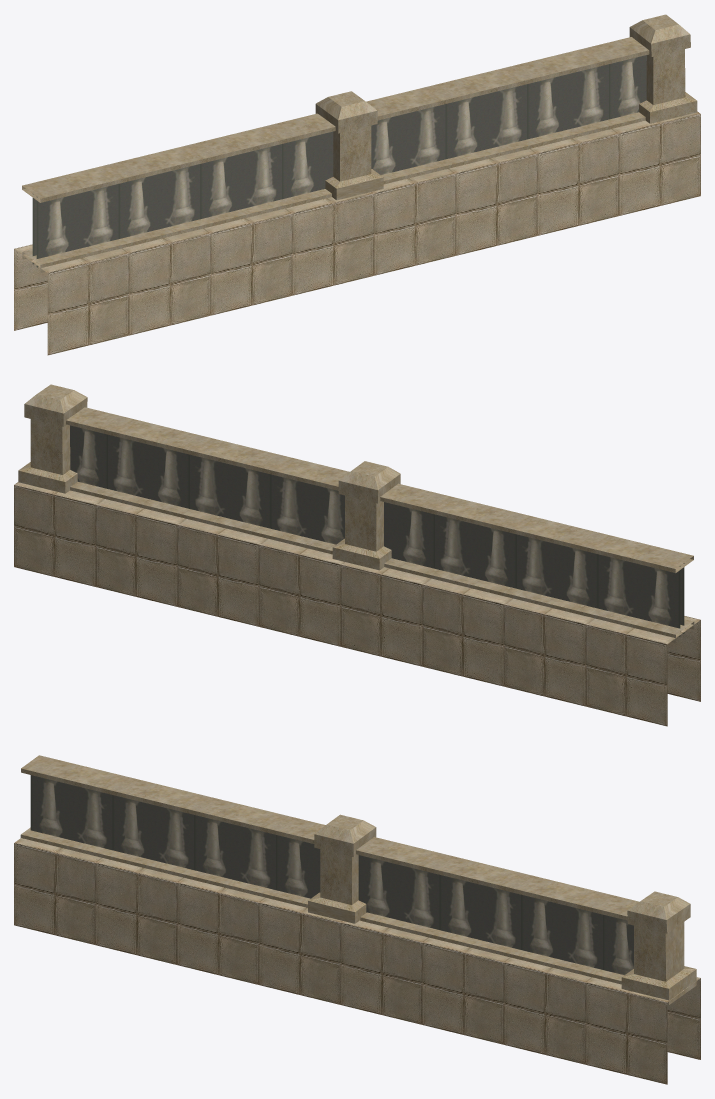
Rendered from thm_nboo_imprv_pillar_wall_large_s01_l1.fbx.
3 views of the same model, one above another, from view 1: azimuth 30°, elevation 25°; view 2: azimuth 150°, elevation 25°; view 3: azimuth 330°, elevation 25° (orthographic).
Visible parts, largest first — view 1: mesh_node; view 2: mesh_node; view 3: mesh_node.
Boxes of the visible parts, x1,y1,x2,y2 form: mesh_node: (14,14,700,355); mesh_node: (14,384,700,726); mesh_node: (14,755,700,1084).
Bounding box in the file's own units: 8.31 × 2.04 × 0.7387.
